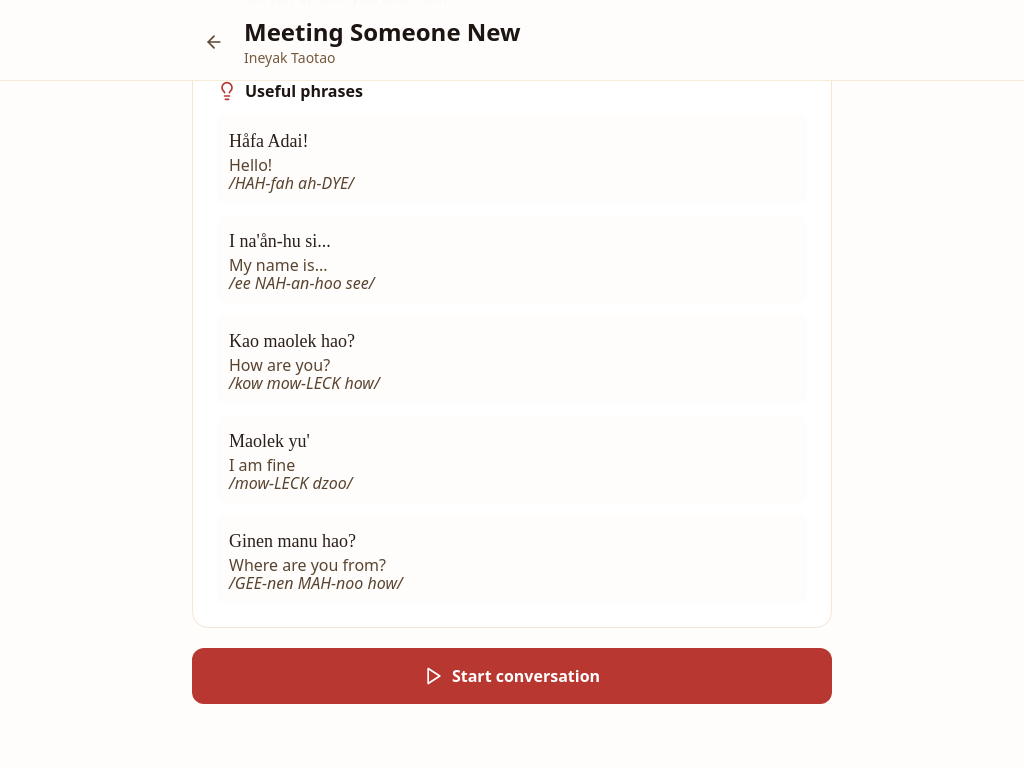
Scenario: guided conversation continuity › retains a failed response for retry, displays evidence, and restores the recap
The width and height of the screenshot is (1024, 767).
Later steps or results of the test are not shown.
(page scrolled)
Click the button "Start conversation": (512, 676) left=192, top=648, right=832, bottom=704
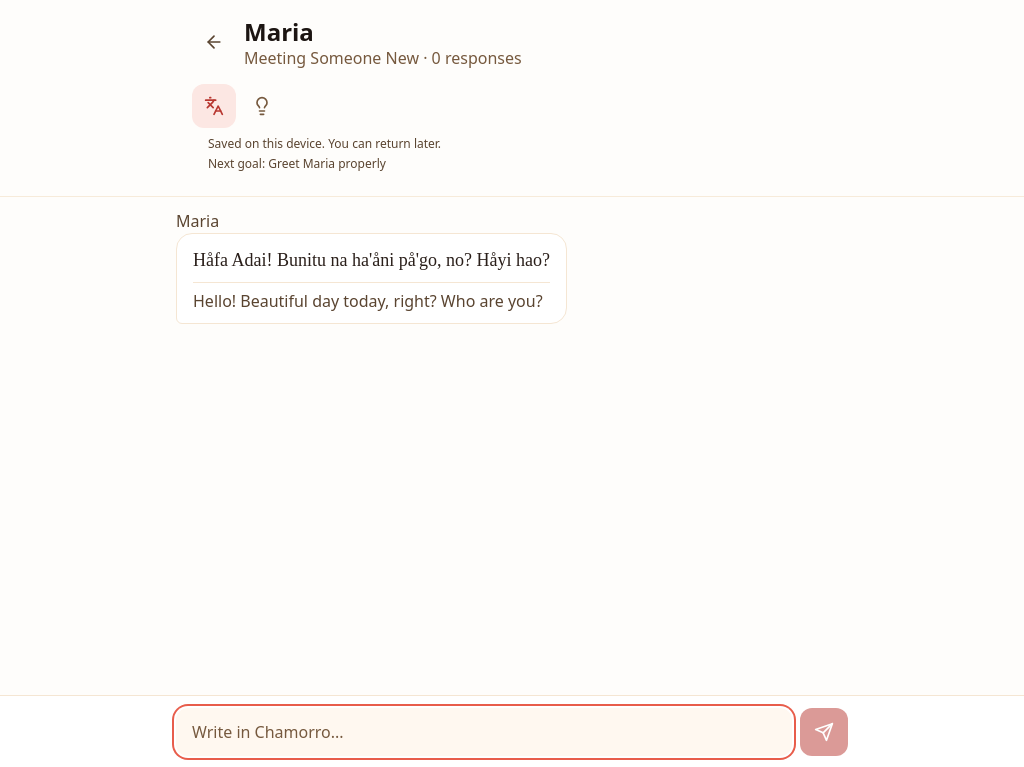
In the field named "Conversation response": (484, 732) left=176, top=708, right=792, bottom=756, type "Håfa Adai!"
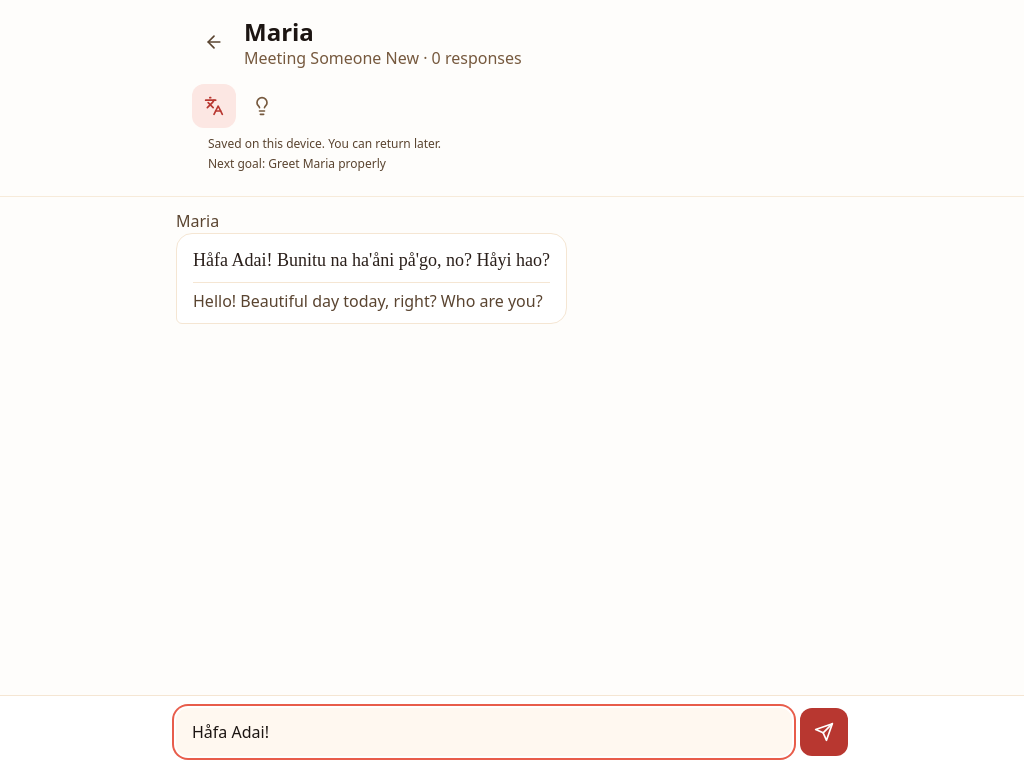
Click the button named "Send response": (824, 732) left=800, top=708, right=848, bottom=756
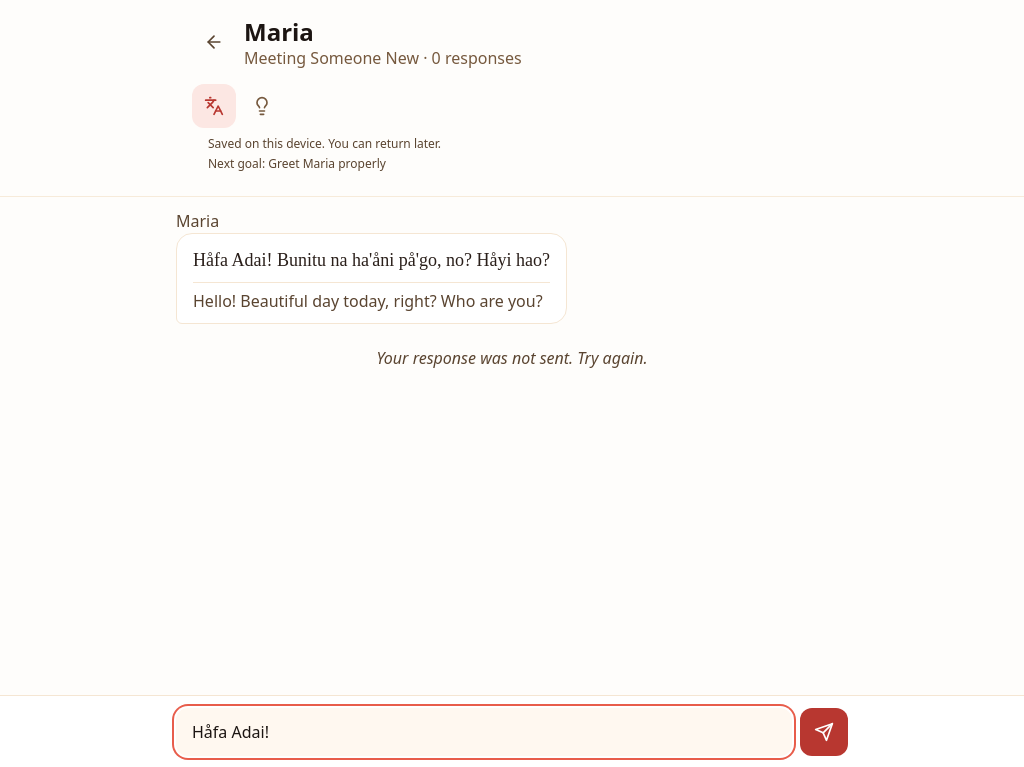
Now the text "Your response was not sent. Try again." is shown, box left=376, top=347, right=648, bottom=369
Click the button named "Send response": (824, 732) left=800, top=708, right=848, bottom=756
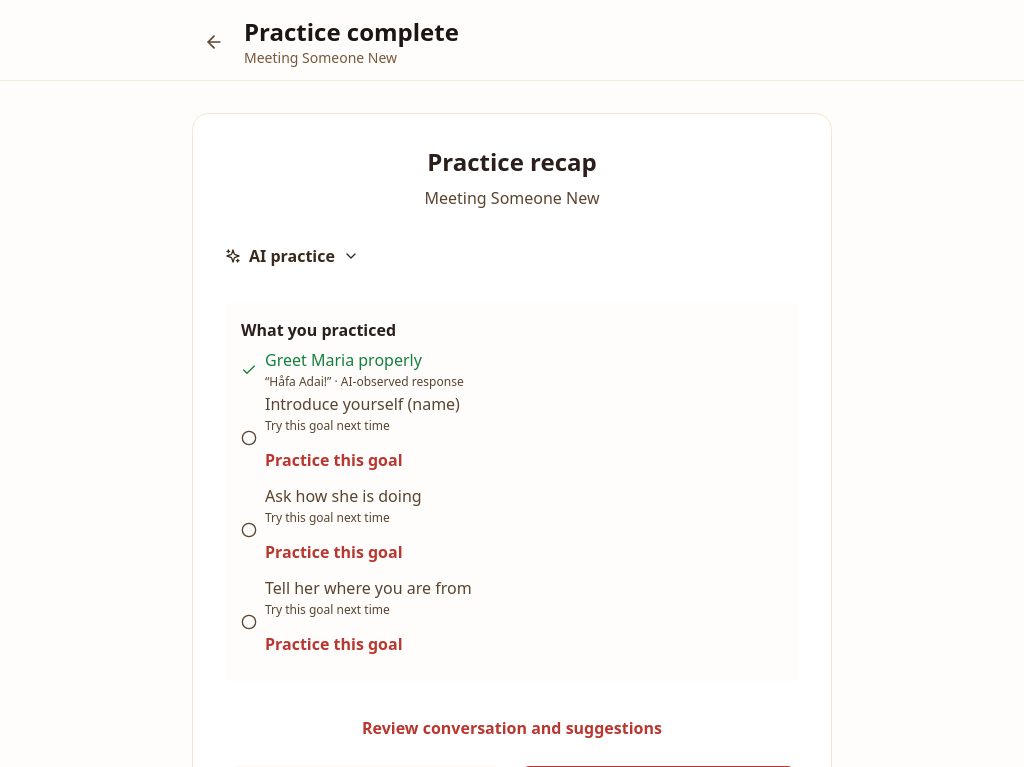
Now the heading "Practice recap" is shown, box left=427, top=145, right=597, bottom=178
Now the text "“Håfa Adai!” · AI-observed response" is shown, box left=265, top=374, right=464, bottom=390
Now the text "Try this goal next time" is shown 3 times, box left=265, top=417, right=390, bottom=434; left=265, top=509, right=390, bottom=526; left=265, top=601, right=390, bottom=618
